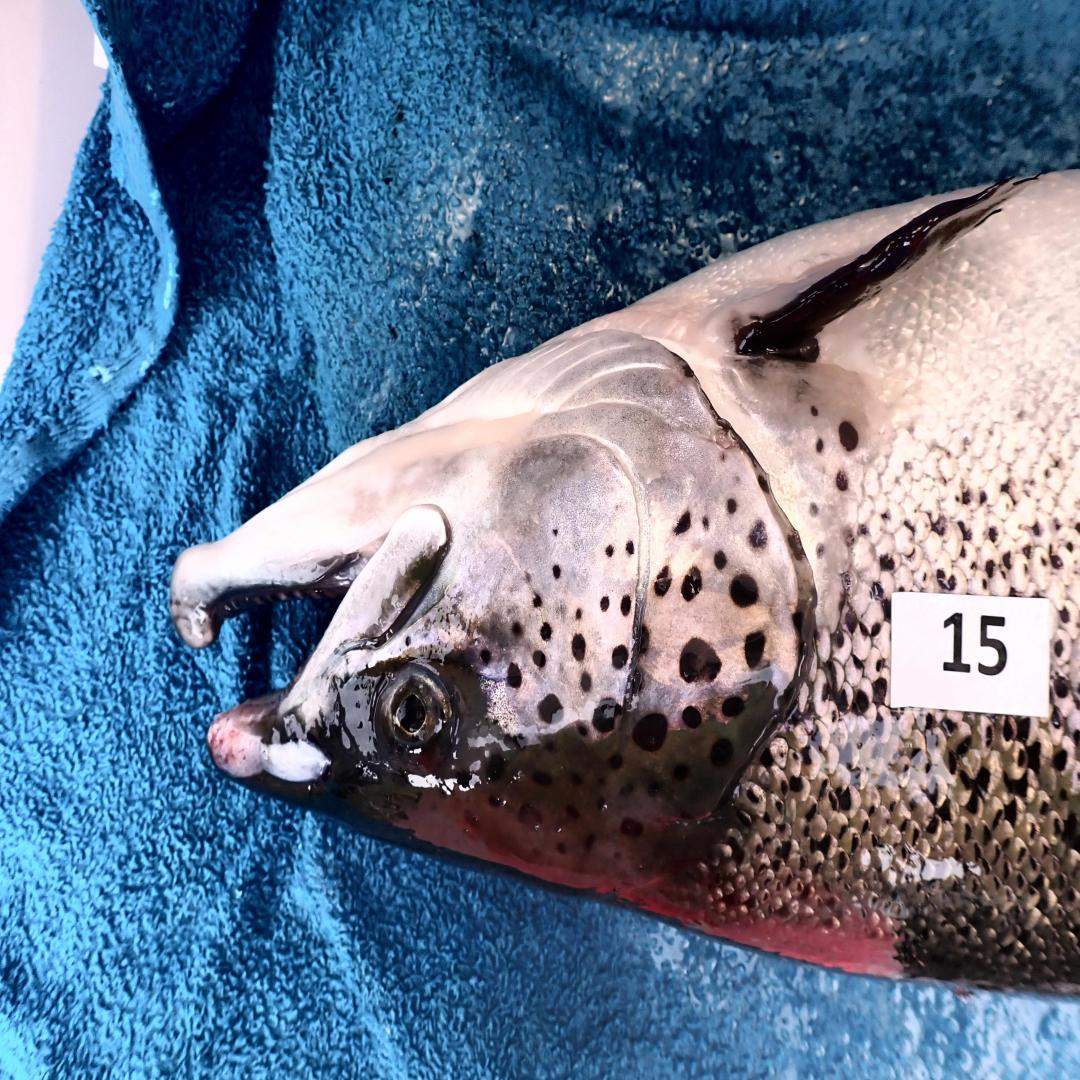spot: (679, 638, 721, 683), (632, 713, 668, 751), (593, 698, 622, 734), (730, 574, 759, 608), (745, 633, 766, 669), (681, 568, 702, 602), (538, 695, 561, 723), (749, 520, 768, 548), (721, 695, 745, 717), (654, 565, 671, 596), (681, 706, 702, 728), (612, 644, 629, 669), (637, 624, 650, 655), (572, 633, 586, 661), (506, 664, 521, 689), (631, 669, 643, 698), (675, 512, 690, 534), (510, 619, 525, 638), (792, 612, 803, 637), (580, 672, 593, 692), (713, 551, 728, 568), (540, 622, 553, 641), (532, 650, 546, 667), (758, 473, 770, 492), (620, 596, 631, 616), (575, 722, 588, 736), (700, 515, 711, 529), (481, 650, 491, 664), (728, 498, 736, 515), (601, 596, 610, 610), (626, 540, 635, 554), (719, 450, 730, 461), (553, 565, 561, 579), (605, 546, 614, 557), (534, 596, 542, 608), (524, 572, 532, 584), (576, 608, 582, 622), (405, 635, 411, 647), (553, 526, 559, 537)
